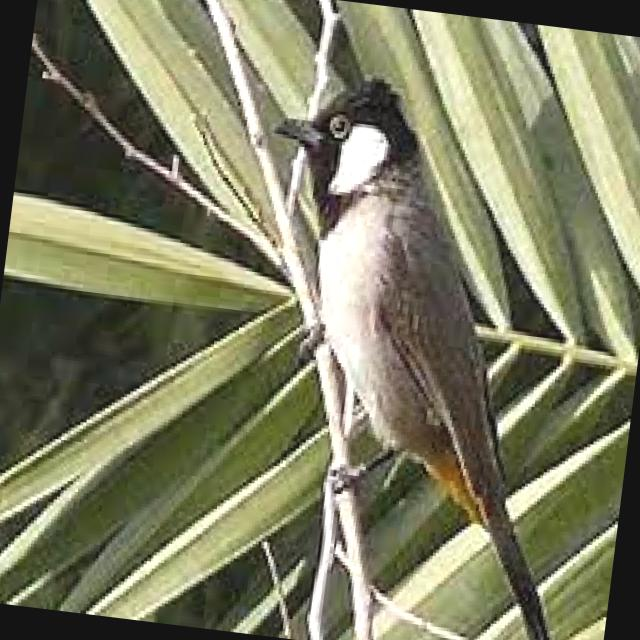bird: (204, 52, 640, 640)
